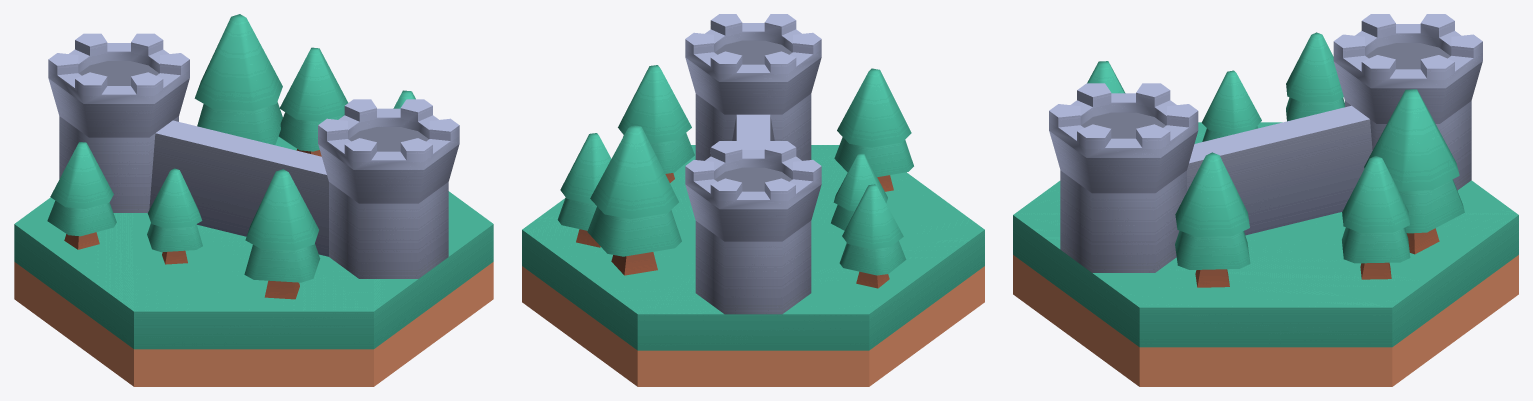
File: building-wall.glb
3 renders of one model, left to right at view 1: azimuth 30°, elevation 25°; view 2: azimuth 150°, elevation 25°; view 3: azimuth 270°, elevation 25°, orthographic. The views are drawn at different scales.
Visible parts, largest first — view 1: building-wall; view 2: building-wall; view 3: building-wall.
Boxes of the visible parts, x1,y1,x2,y2 form: building-wall: (14,14,493,386); building-wall: (522,14,984,386); building-wall: (1013,14,1518,386).
Size of the model in its own units: 1 by 0.58 by 1.15.
Materials: 1 (1 with a texture image).
